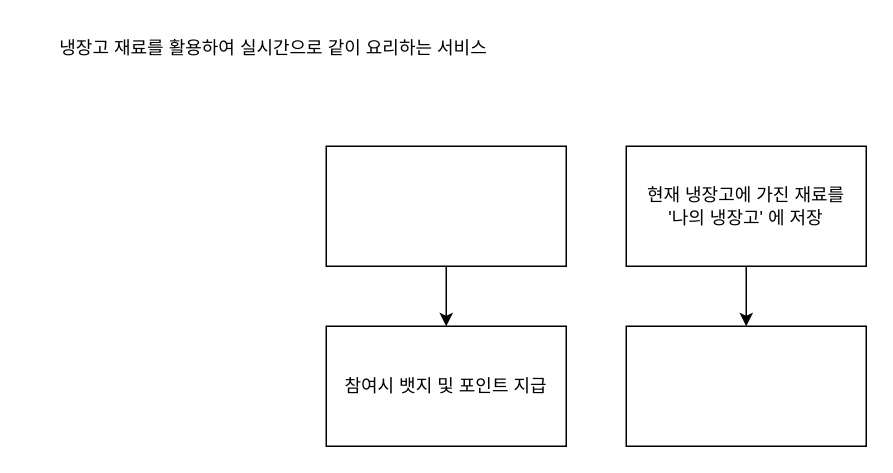
This 893x473 diagram has some shape labels left out. The shapes that lost their labels are listed below. From the top down, each one's centre as x and y in pixels, then its label:
the point at 445,205: 실시간 화면공유를 통해 요리 학습 및 공유
the point at 745,385: 다른 사용자들의 요리 추천 내 재료 파악 가능
